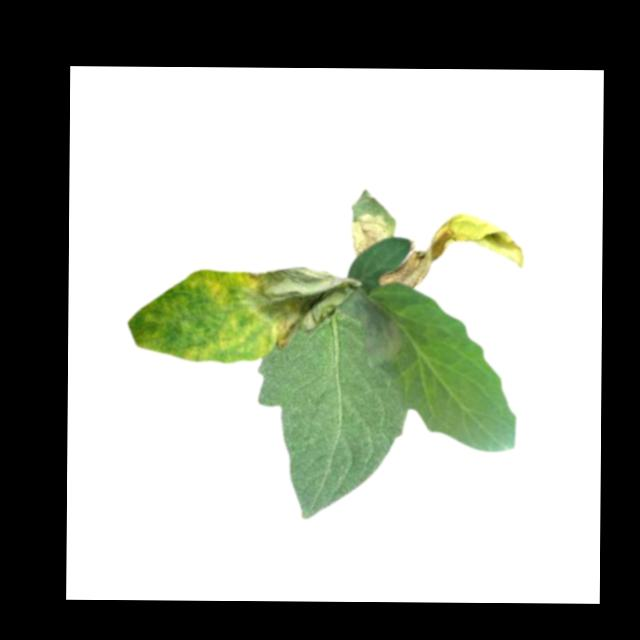Late_blight: (380, 212, 528, 291), (247, 266, 358, 349), (338, 287, 407, 369), (351, 212, 392, 259)
healthy: (256, 316, 405, 520)
